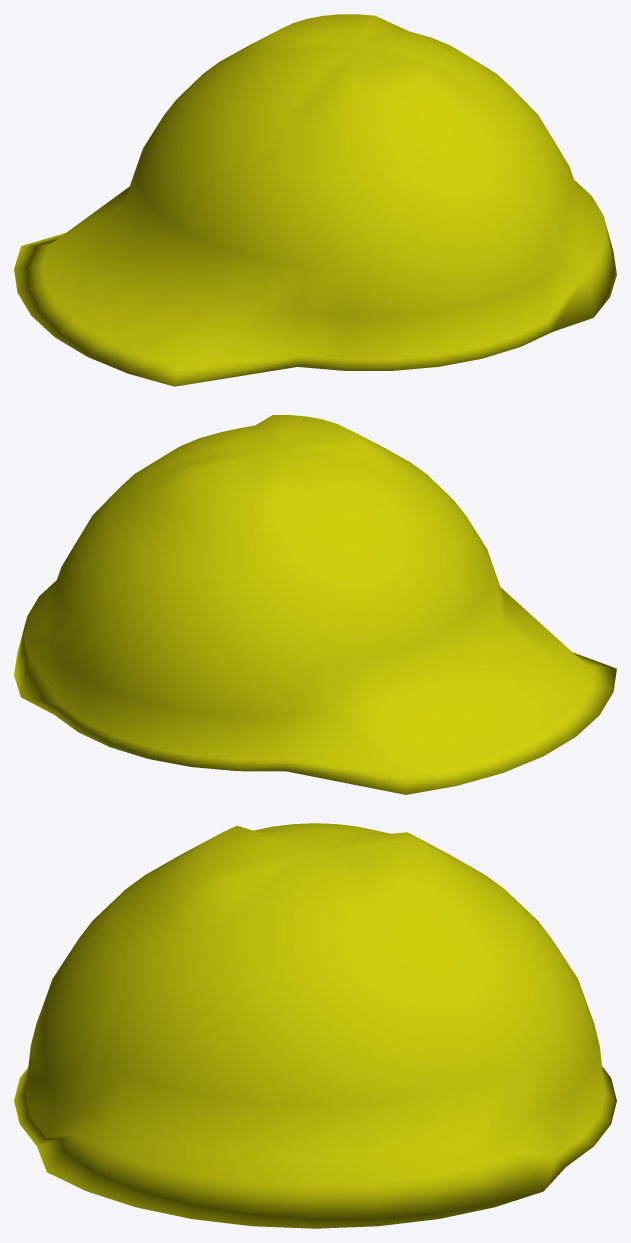
File: buildHat.fbx
3 views of the same model, one above another, from view 1: azimuth 30°, elevation 25°; view 2: azimuth 150°, elevation 25°; view 3: azimuth 270°, elevation 25° (orthographic). The views are drawn at different scales.
Parts seen in each view (by area): view 1: helmet; view 2: helmet; view 3: helmet.
Boxes of the visible parts, left/top/right/bottom form: helmet: left=14, top=14, right=616, bottom=386; helmet: left=14, top=415, right=616, bottom=794; helmet: left=14, top=823, right=616, bottom=1228.
Size of the model in its own units: 3.28 by 1.28 by 2.81.
